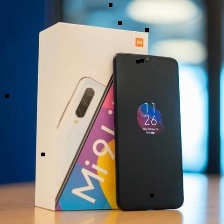book: (28, 19, 154, 214)
phone: (109, 47, 186, 213)
